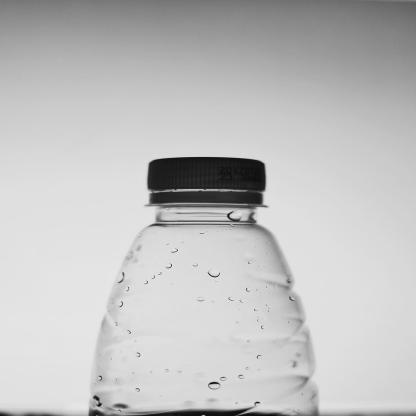bottle: (76, 131, 344, 416)
